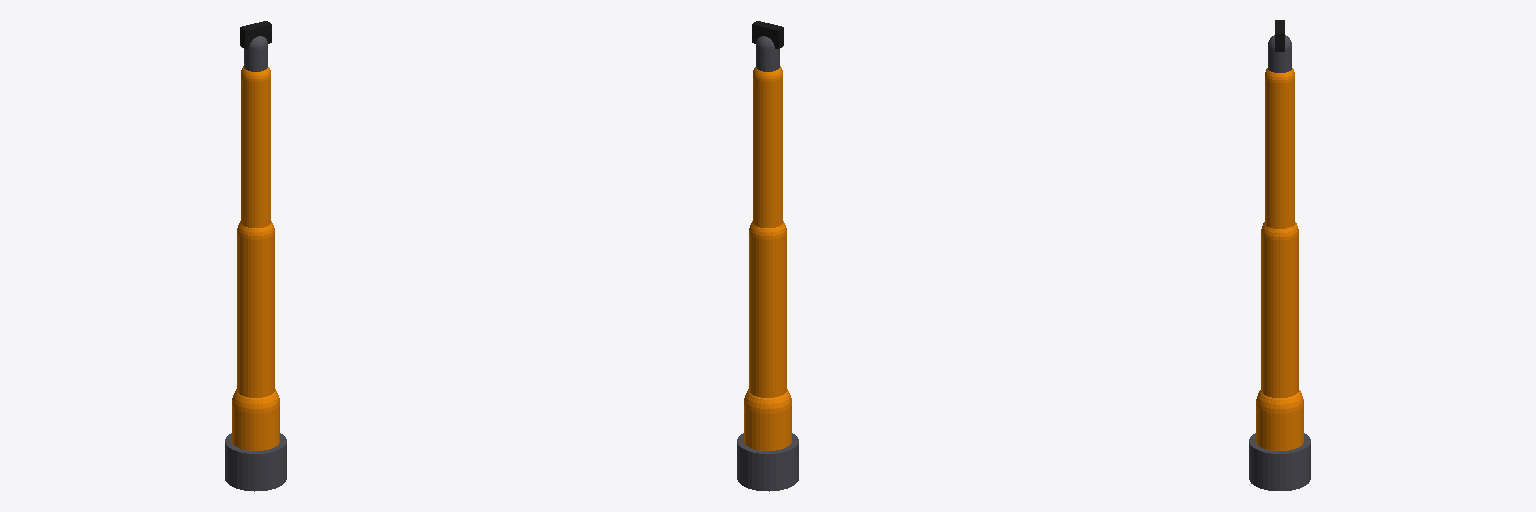
robot.urdf — aicor_cell_arm:
<?xml version="1.0"?>
<!-- Stylised 6-axis arm from automationMockup/src/camera_sim/cell_scene.xml
     (MJCF). Capsule geoms are approximated as a cylinder with sphere caps.
     The MJCF body arm_hand carries two hinges (j4, j5); URDF allows one
     joint per link, so arm_hand_pitch is inserted as a zero-offset link. -->
<robot name="aicor_cell_arm">

  <material name="arm_orange"><color rgba="0.95 0.55 0.05 1"/></material>
  <material name="arm_grey"><color rgba="0.35 0.35 0.38 1"/></material>
  <material name="gripper_black"><color rgba="0.15 0.15 0.15 1"/></material>

  <link name="arm_root"/>

  <link name="arm_basis">
    <visual>
      <origin xyz="0 0 0.06"/>
      <geometry><cylinder radius="0.09" length="0.12"/></geometry>
      <material name="arm_grey"/>
    </visual>
  </link>
  <joint name="arm_basis_fix" type="fixed">
    <parent link="arm_root"/>
    <child link="arm_basis"/>
    <origin xyz="0 0 0.97"/>
  </joint>

  <link name="arm_karussell">
    <visual>
      <origin xyz="0 0 0.06"/>
      <geometry><cylinder radius="0.07" length="0.12"/></geometry>
      <material name="arm_orange"/>
    </visual>
    <visual>
      <geometry><sphere radius="0.07"/></geometry>
      <material name="arm_orange"/>
    </visual>
    <visual>
      <origin xyz="0 0 0.12"/>
      <geometry><sphere radius="0.07"/></geometry>
      <material name="arm_orange"/>
    </visual>
  </link>
  <joint name="arm_j1" type="revolute">
    <parent link="arm_basis"/>
    <child link="arm_karussell"/>
    <origin xyz="0 0 0.12"/>
    <axis xyz="0 0 1"/>
    <limit lower="-3.1" upper="3.1" effort="100" velocity="1"/>
  </joint>

  <link name="arm_oberarm">
    <visual>
      <origin xyz="0 0 0.275"/>
      <geometry><cylinder radius="0.055" length="0.55"/></geometry>
      <material name="arm_orange"/>
    </visual>
    <visual>
      <geometry><sphere radius="0.055"/></geometry>
      <material name="arm_orange"/>
    </visual>
    <visual>
      <origin xyz="0 0 0.55"/>
      <geometry><sphere radius="0.055"/></geometry>
      <material name="arm_orange"/>
    </visual>
  </link>
  <joint name="arm_j2" type="revolute">
    <parent link="arm_karussell"/>
    <child link="arm_oberarm"/>
    <origin xyz="0 0 0.12"/>
    <axis xyz="0 1 0"/>
    <limit lower="-2.2" upper="2.2" effort="100" velocity="1"/>
  </joint>

  <link name="arm_unterarm">
    <visual>
      <origin xyz="0 0 0.25"/>
      <geometry><cylinder radius="0.045" length="0.50"/></geometry>
      <material name="arm_orange"/>
    </visual>
    <visual>
      <geometry><sphere radius="0.045"/></geometry>
      <material name="arm_orange"/>
    </visual>
    <visual>
      <origin xyz="0 0 0.50"/>
      <geometry><sphere radius="0.045"/></geometry>
      <material name="arm_orange"/>
    </visual>
  </link>
  <joint name="arm_j3" type="revolute">
    <parent link="arm_oberarm"/>
    <child link="arm_unterarm"/>
    <origin xyz="0 0 0.55"/>
    <axis xyz="0 1 0"/>
    <limit lower="-2.6" upper="2.6" effort="100" velocity="1"/>
  </joint>

  <link name="arm_hand_pitch"/>
  <joint name="arm_j4" type="revolute">
    <parent link="arm_unterarm"/>
    <child link="arm_hand_pitch"/>
    <origin xyz="0 0 0.50"/>
    <axis xyz="0 1 0"/>
    <limit lower="-2.2" upper="2.2" effort="100" velocity="1"/>
  </joint>

  <link name="arm_hand">
    <visual>
      <origin xyz="0 0 0.05"/>
      <geometry><cylinder radius="0.035" length="0.10"/></geometry>
      <material name="arm_grey"/>
    </visual>
    <visual>
      <geometry><sphere radius="0.035"/></geometry>
      <material name="arm_grey"/>
    </visual>
    <visual>
      <origin xyz="0 0 0.10"/>
      <geometry><sphere radius="0.035"/></geometry>
      <material name="arm_grey"/>
    </visual>
    <visual>
      <origin xyz="0 0 0.13"/>
      <geometry><box size="0.09 0.03 0.06"/></geometry>
      <material name="gripper_black"/>
    </visual>
  </link>
  <joint name="arm_j5" type="revolute">
    <parent link="arm_hand_pitch"/>
    <child link="arm_hand"/>
    <origin xyz="0 0 0"/>
    <axis xyz="0 0 1"/>
    <limit lower="-3.1" upper="3.1" effort="100" velocity="1"/>
  </joint>

</robot>

--- Render facts (derived) ---
3 views of the same robot in one strip: view 1: azimuth 30°, elevation 25°; view 2: azimuth 150°, elevation 25°; view 3: azimuth 270°, elevation 25° (orthographic).
Model aicor_cell_arm with 7 links and 6 joints (5 revolute, 1 fixed), rooted at arm_root, posed every joint at zero.
Visible links, largest first — view 1: arm_oberarm, arm_unterarm, arm_basis, arm_karussell, arm_hand; view 2: arm_oberarm, arm_unterarm, arm_basis, arm_karussell, arm_hand; view 3: arm_oberarm, arm_unterarm, arm_basis, arm_karussell, arm_hand.
Boxes of the visible links, x1,y1,x2,y2 form: arm_oberarm: [237, 221, 274, 397]; arm_unterarm: [241, 66, 270, 227]; arm_basis: [225, 433, 286, 491]; arm_karussell: [232, 389, 279, 450]; arm_hand: [240, 21, 271, 71]; arm_oberarm: [749, 221, 786, 397]; arm_unterarm: [753, 66, 782, 227]; arm_basis: [737, 433, 798, 491]; arm_karussell: [744, 389, 791, 450]; arm_hand: [752, 21, 783, 71]; arm_oberarm: [1261, 222, 1298, 397]; arm_unterarm: [1265, 68, 1294, 228]; arm_basis: [1249, 433, 1310, 490]; arm_karussell: [1256, 390, 1303, 450]; arm_hand: [1268, 20, 1291, 72].
Bounding box of the posed robot: 0.18 × 0.18 × 1.45 m (x, y, z).
Geometry: primitives only (box / cylinder / sphere), no mesh files.
